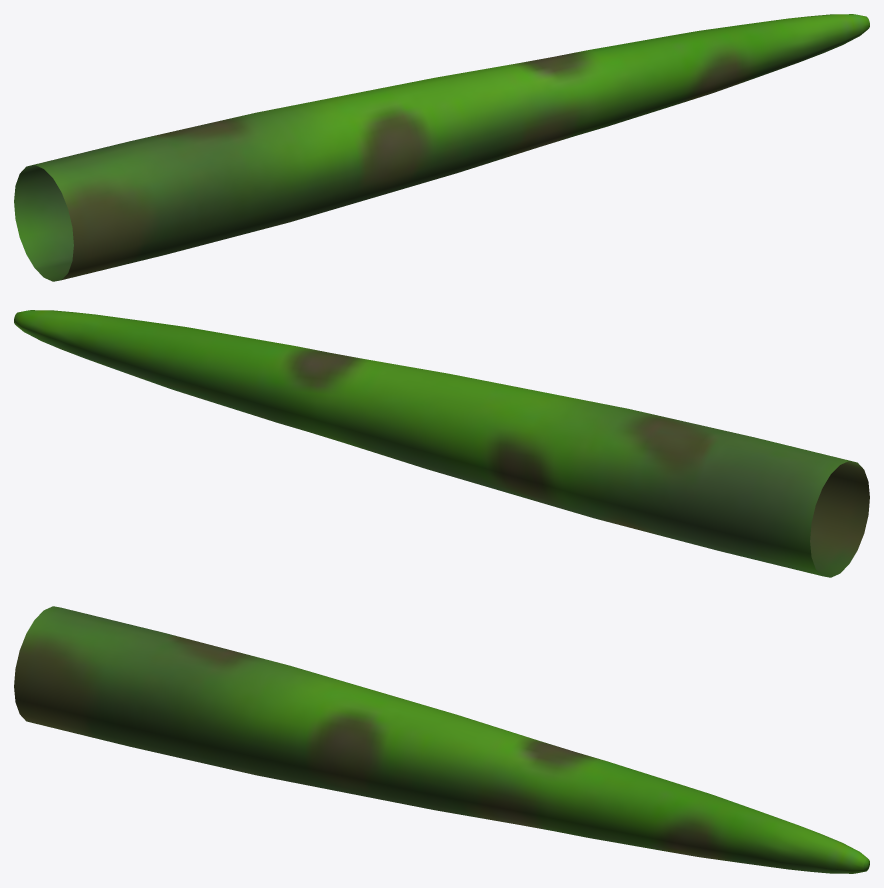
The model's file is MainConsole_Tentacle.fbx.
3 renders of one model, top to bottom at view 1: azimuth 30°, elevation 25°; view 2: azimuth 150°, elevation 25°; view 3: azimuth 330°, elevation 25°, orthographic.
Visible parts, largest first — view 1: tentacle1; view 2: tentacle1; view 3: tentacle1.
Boxes of the visible parts, x1,y1,x2,y2 form: tentacle1: (14,14,869,281); tentacle1: (14,310,869,577); tentacle1: (14,606,869,873).
Size of the model in its own units: 45.56 by 5.74 by 5.74.
Materials: 1 (1 with a texture image).
